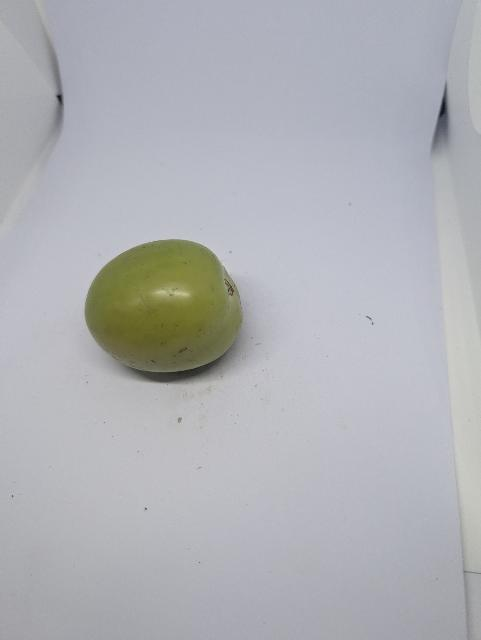green: (83, 236, 246, 376)
